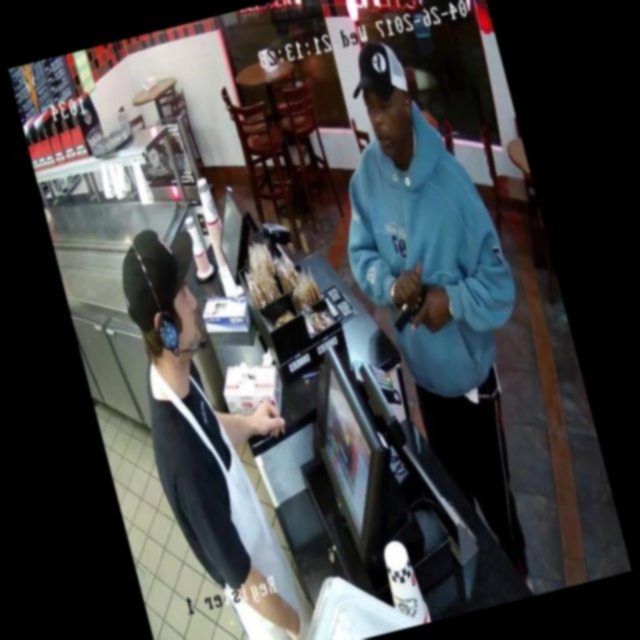gun: (372, 272, 453, 350)
